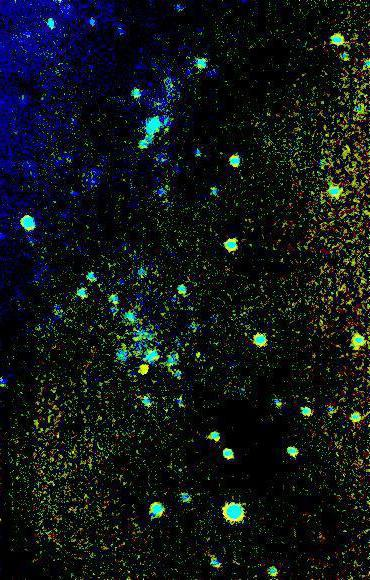star: (131, 355, 161, 385)
